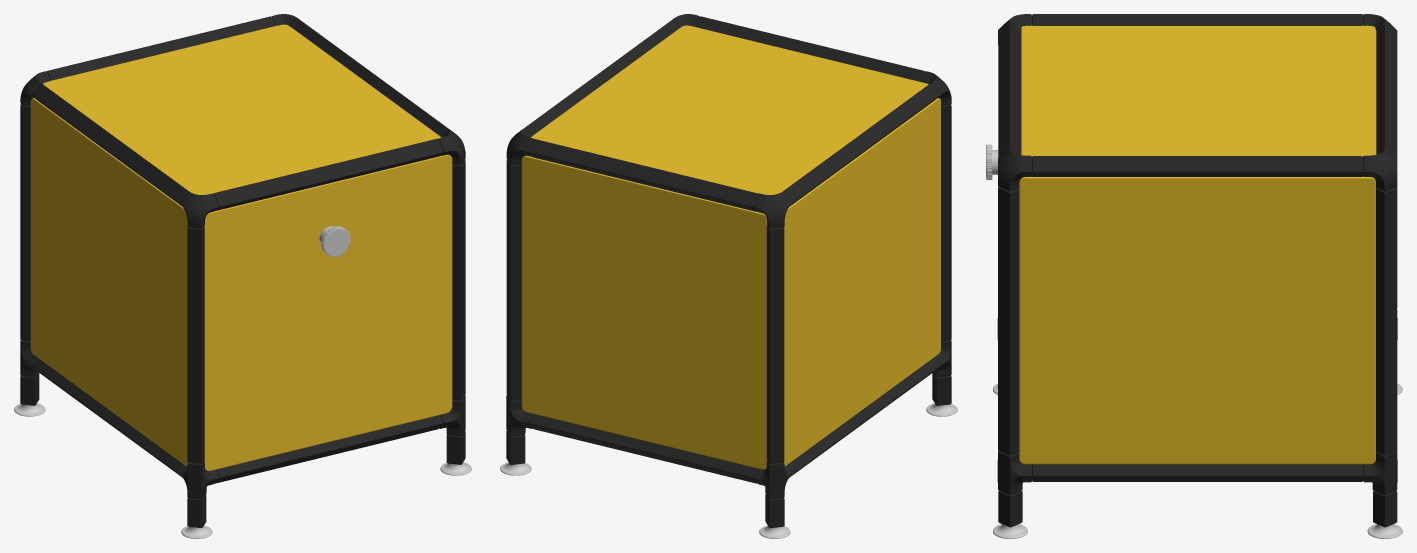
3 views of the same model, side by side, from view 1: azimuth 30°, elevation 25°; view 2: azimuth 150°, elevation 25°; view 3: azimuth 270°, elevation 25° (orthographic). The views are drawn at different scales.
Visible parts, largest first — view 1: 329x374x329; view 2: 329x374x329; view 3: 329x374x329.
Boxes of the visible parts, box(x1,y1,x2,y2) form: 329x374x329: box(14, 14, 471, 538); 329x374x329: box(500, 14, 957, 538); 329x374x329: box(986, 14, 1402, 538).
Bounding box in the file's own units: 0.419 × 0.4683 × 0.4707.
